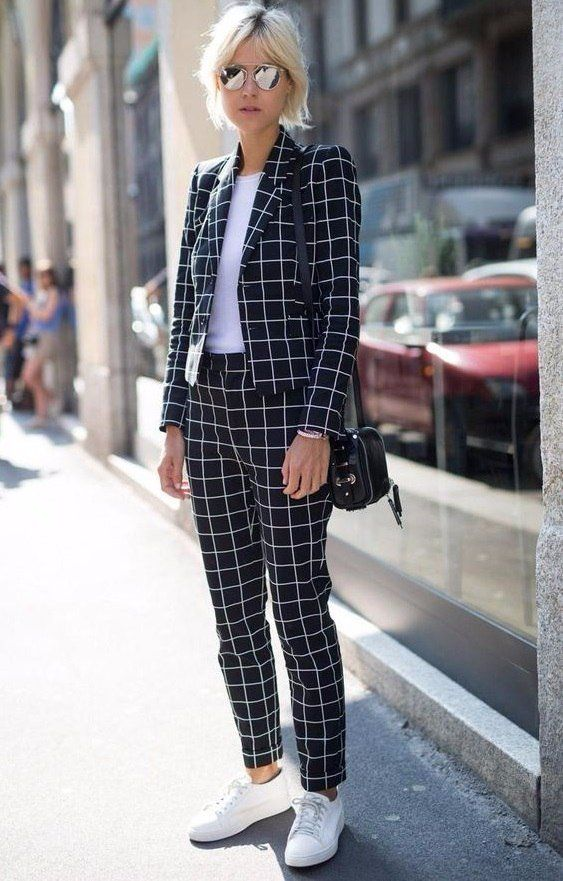squared: (151, 129, 373, 793)
